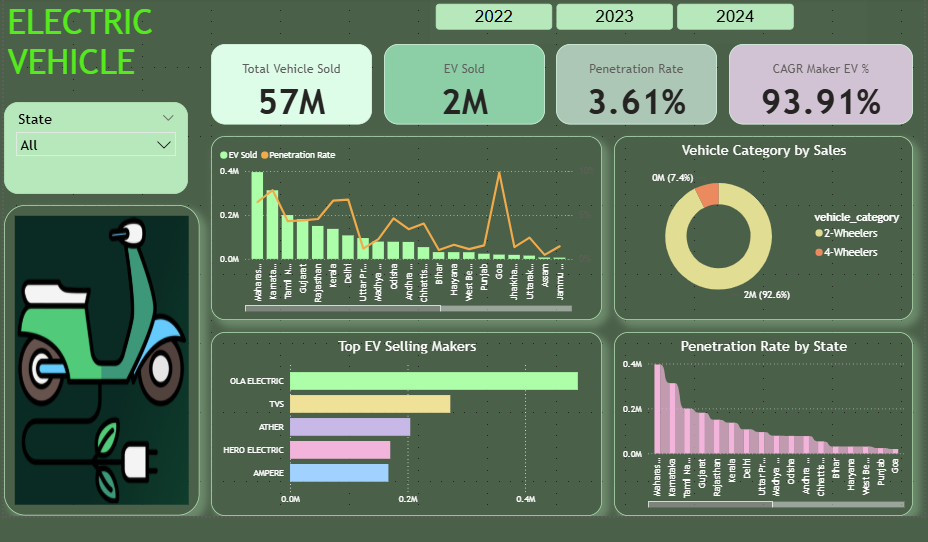

The page's visual inventory and layout, read from the dashboard file:
{"tool":"powerbi","page":{"name":"Page 1","canvas":[1280,720],"ordinal":0},"visuals":[{"type":"textbox","box":[0,0,224,128],"z":0},{"type":"ChicletSlicer1448559807354","fields":{"Category":["dim_date.fiscal_year"]},"box":[592,0,608,64],"z":1000},{"type":"cardVisual","fields":{"Data":["electric_vehicle_sales_by_makers.CAGR Maker EV %"]},"box":[1008,64,256,112],"z":2000},{"type":"cardVisual","fields":{"Data":["electric_vehicle_sales_by_state.EV Sold"]},"box":[528,64,224,112],"z":3000},{"type":"cardVisual","fields":{"Data":["electric_vehicle_sales_by_state.Penetration Rate"]},"box":[768,64,224,112],"z":4000},{"type":"cardVisual","fields":{"Data":["electric_vehicle_sales_by_state.Total Vehicle Sold"]},"box":[288,64,224,112],"z":5000},{"type":"lineClusteredColumnComboChart","fields":{"Category":["electric_vehicle_sales_by_state.state"],"Y":["electric_vehicle_sales_by_state.EV Sold"],"Y2":["electric_vehicle_sales_by_state.Penetration Rate"]},"box":[288,192,544,256],"z":6000},{"type":"donutChart","title":"Vehicle Category by Sales","fields":{"Category":["electric_vehicle_sales_by_state.vehicle_category"],"Y":["Sum(electric_vehicle_sales_by_state.electric_vehicles_sold)"]},"box":[848,192,416,256],"z":7000},{"type":"clusteredBarChart","title":"Top EV Selling Makers","fields":{"Category":["electric_vehicle_sales_by_makers.maker"],"Y":["electric_vehicle_sales_by_state.EV Sold Makers"]},"box":[288,464,544,256],"z":8000},{"type":"ribbonChart","title":"Penetration Rate by State","fields":{"Category":["electric_vehicle_sales_by_state.state"],"Y":["electric_vehicle_sales_by_state.EV Sold"]},"box":[848,464,416,256],"z":9000},{"type":"slicer","fields":{"Values":["electric_vehicle_sales_by_state.state"]},"box":[0,144,256,128],"z":10000},{"type":"image","box":[0,288,272,432],"z":11000}]}

Visuals, with their boxes on the page's 1280x720 design canvas (x1, y1, x2, y2). These are canvas units, not pixel positions in the 928x542 screenshot, which may show the page scaled, cropped or inside an application window:
textbox: [left=0, top=0, right=224, bottom=128]
ChicletSlicer1448559807354 - dim_date.fiscal_year: [left=592, top=0, right=1200, bottom=64]
cardVisual - electric_vehicle_sales_by_makers.CAGR Maker EV %: [left=1008, top=64, right=1264, bottom=176]
cardVisual - electric_vehicle_sales_by_state.EV Sold: [left=528, top=64, right=752, bottom=176]
cardVisual - electric_vehicle_sales_by_state.Penetration Rate: [left=768, top=64, right=992, bottom=176]
cardVisual - electric_vehicle_sales_by_state.Total Vehicle Sold: [left=288, top=64, right=512, bottom=176]
lineClusteredColumnComboChart - electric_vehicle_sales_by_state.state x electric_vehicle_sales_by_state.EV Sold: [left=288, top=192, right=832, bottom=448]
"Vehicle Category by Sales" donutChart: [left=848, top=192, right=1264, bottom=448]
"Top EV Selling Makers" clusteredBarChart: [left=288, top=464, right=832, bottom=720]
"Penetration Rate by State" ribbonChart: [left=848, top=464, right=1264, bottom=720]
slicer - electric_vehicle_sales_by_state.state: [left=0, top=144, right=256, bottom=272]
image: [left=0, top=288, right=272, bottom=720]
